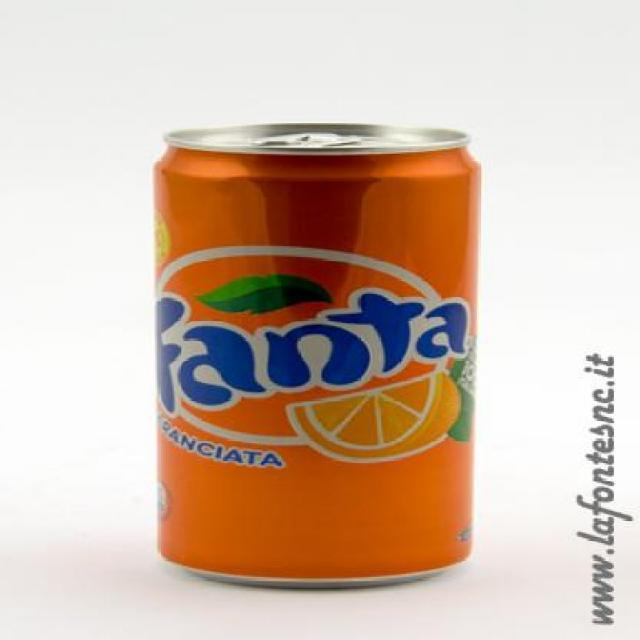Fanta: (131, 122, 492, 596)
